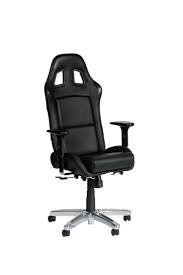chair: (43, 52, 136, 241)
